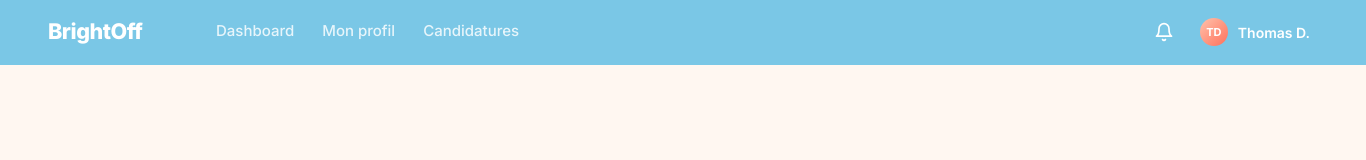
Test case: NavApp › click_on_user_meta_opens_dropdown
What coordinates should you click on to do the following:
click the button "TD Thomas D."
I would click on:
 (1257, 32)
Its box is [1196, 14, 1318, 50].
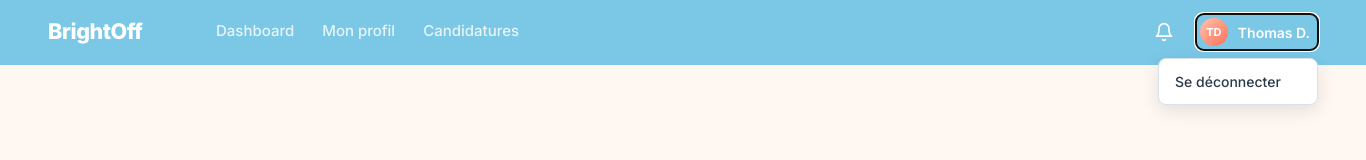
Now the button "Se déconnecter" is shown, box [1159, 59, 1317, 104]
